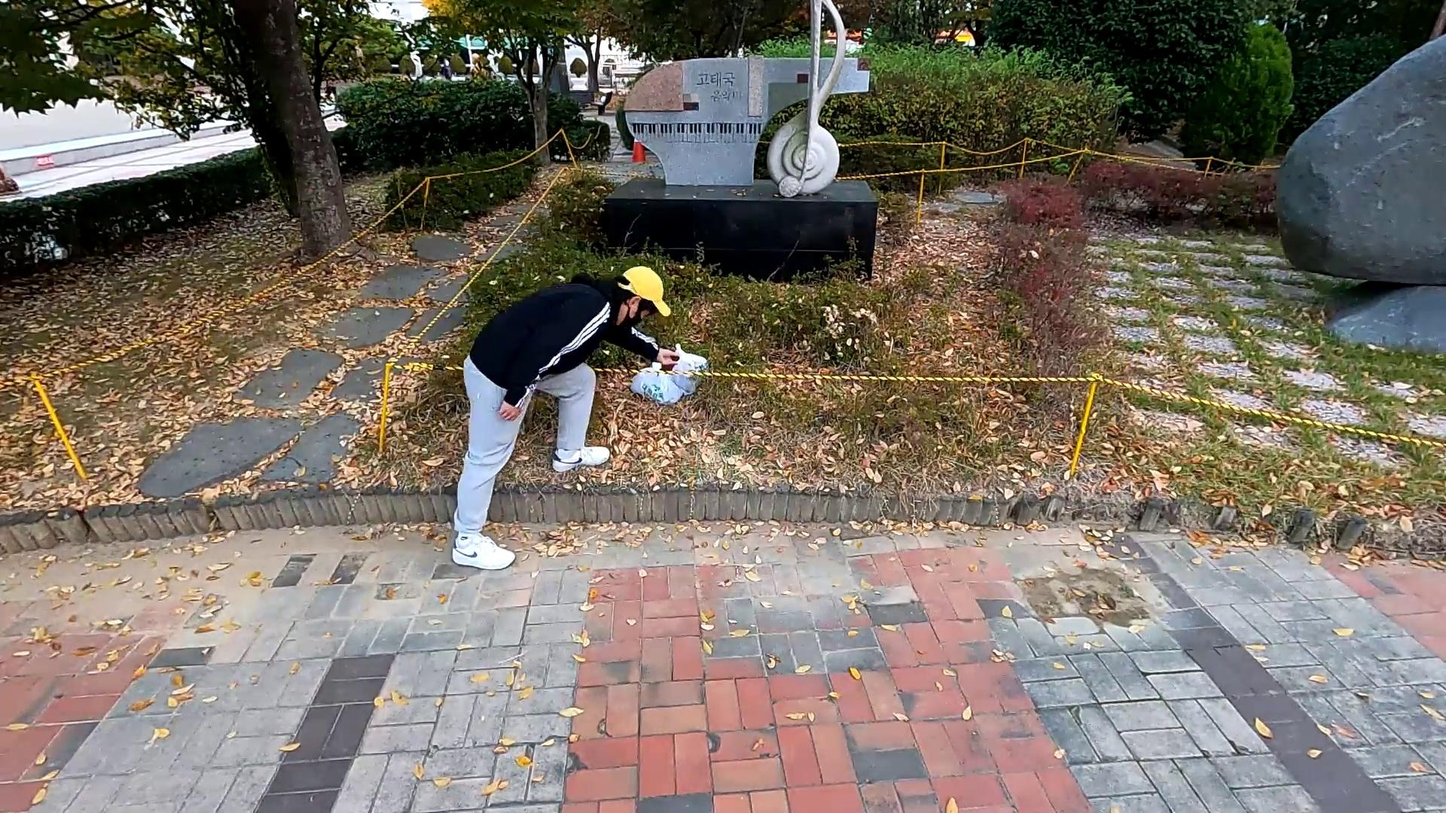person: (454, 259, 677, 569)
trash: (628, 359, 681, 411), (659, 337, 706, 395)
